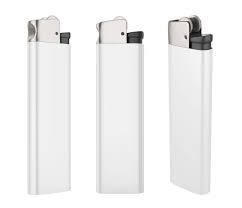lighter: (96, 14, 145, 196), (26, 14, 72, 196), (169, 17, 212, 198)
